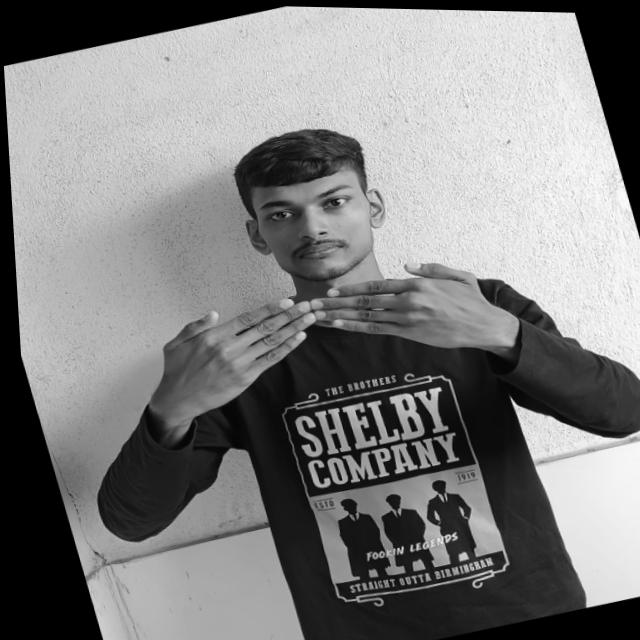Night: (123, 240, 496, 419)
